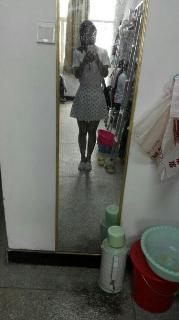short sleeve top: (72, 45, 112, 85)
skirt: (70, 83, 110, 122)
